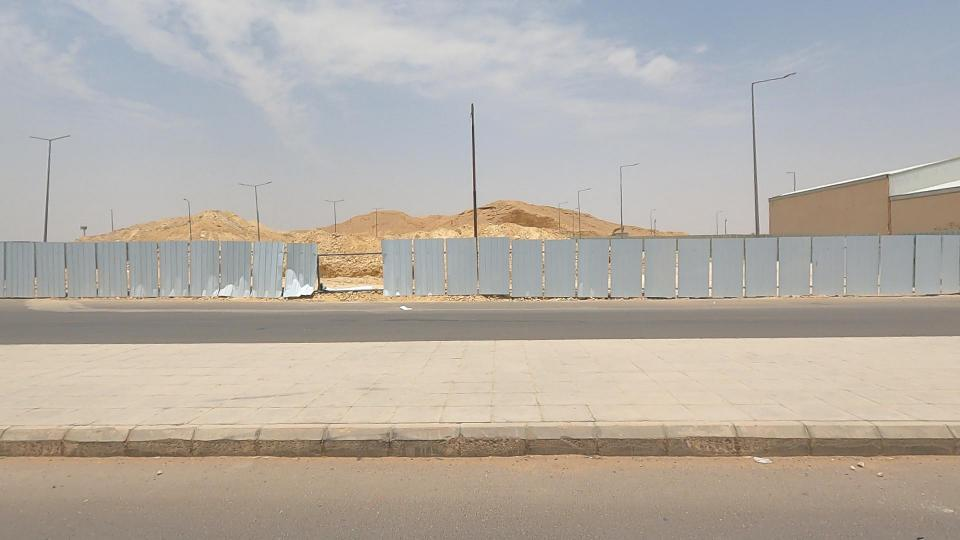GARBAGE: (716, 418, 795, 492), (376, 289, 432, 323)
